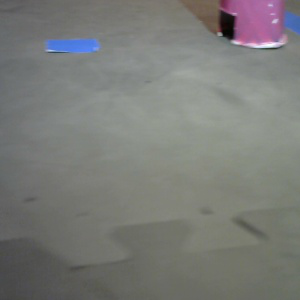right: (215, 1, 288, 49)
